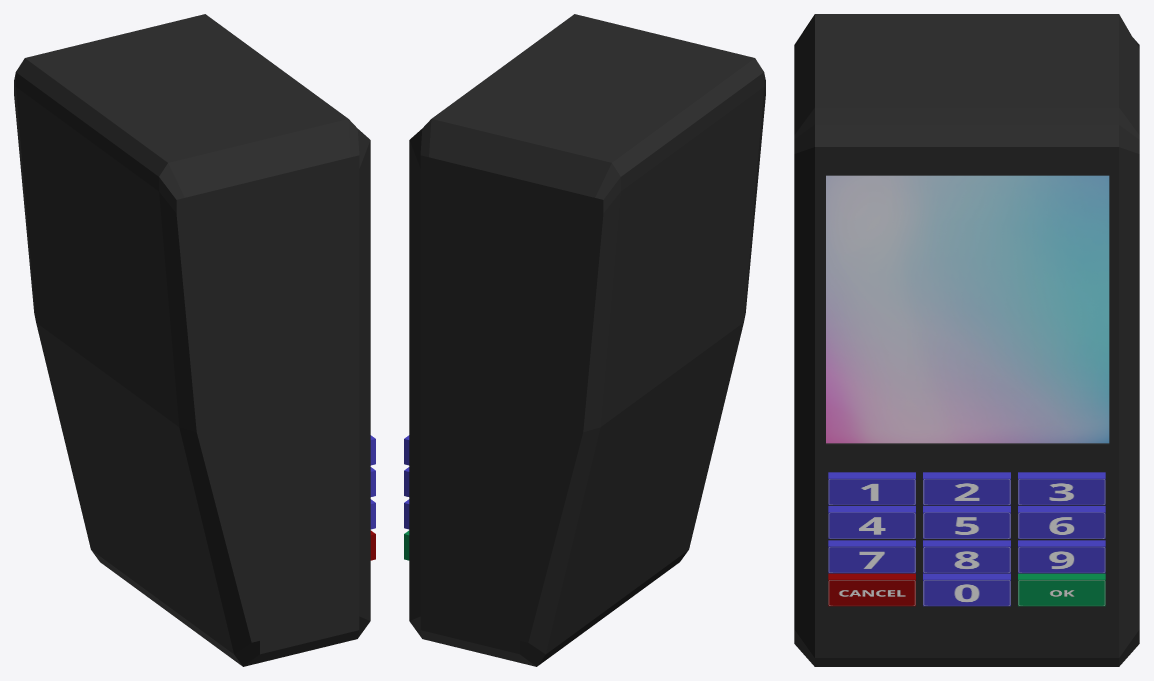
The model's file is TerminalATM.fbx.
3 renders of one model, left to right at view 1: azimuth 30°, elevation 25°; view 2: azimuth 150°, elevation 25°; view 3: azimuth 270°, elevation 25°, orthographic. The views are drawn at different scales.
Visible parts, largest first — view 1: Terminal; view 2: Terminal; view 3: Terminal, number2, Number1, number3, number8, number7, number9, number0, Cancel, Ok, number5, number4 (+1 smaller).
Boxes of the visible parts, left/top/right/bottom form: Terminal: left=14, top=14, right=370, bottom=666; Terminal: left=409, top=14, right=765, bottom=666; Terminal: left=794, top=14, right=1139, bottom=666; number2: left=923, top=472, right=1010, bottom=505; Number1: left=828, top=472, right=915, bottom=505; number3: left=1018, top=472, right=1105, bottom=505; number8: left=923, top=540, right=1010, bottom=573; number7: left=828, top=540, right=915, bottom=573; number9: left=1018, top=540, right=1105, bottom=573; number0: left=923, top=573, right=1010, bottom=606; Cancel: left=828, top=573, right=915, bottom=606; Ok: left=1018, top=573, right=1105, bottom=606; number5: left=923, top=506, right=1010, bottom=538; number4: left=828, top=506, right=915, bottom=538.
Bounding box in the file's own units: 17.89 × 40.01 × 22.56.
14 materials, 13 textured.
